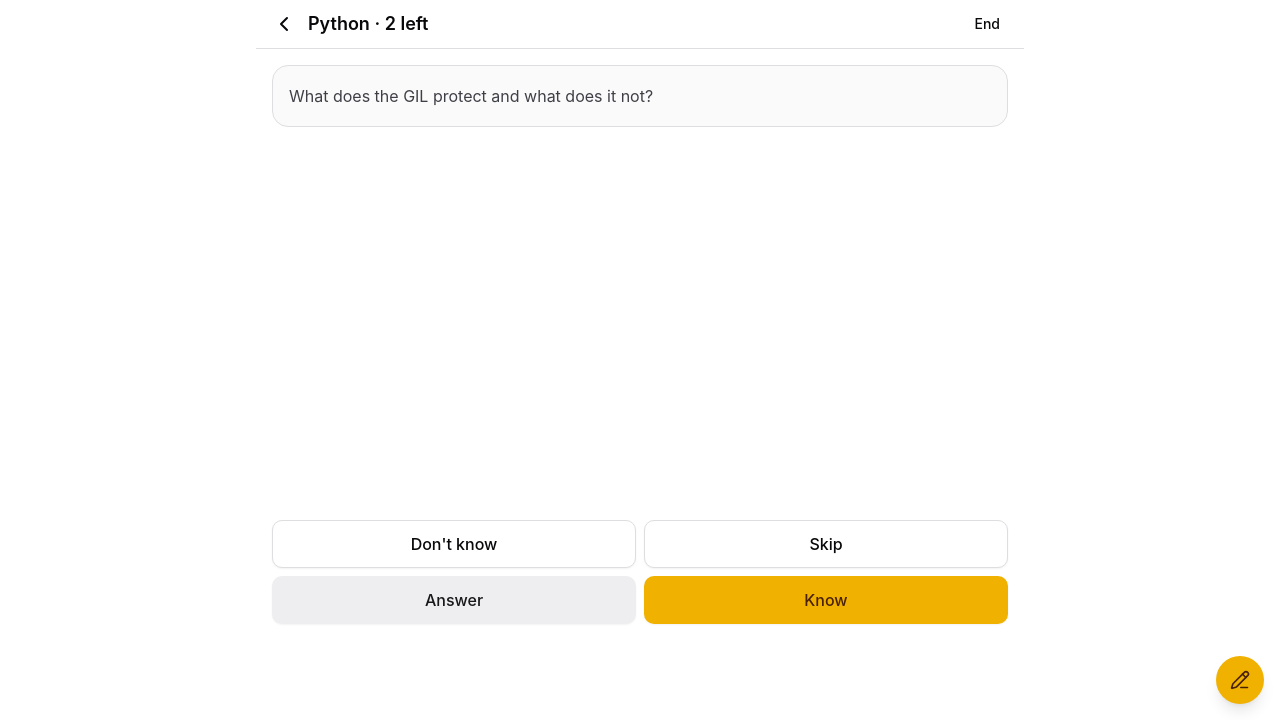
it: Training › skips once to the end and drops on the second skip without a Rep
Expected: the heading "Python · 2 left" is shown, [308,13,428,34]
Click the button "Skip": coordinates (826, 544) [644,520,1008,568]
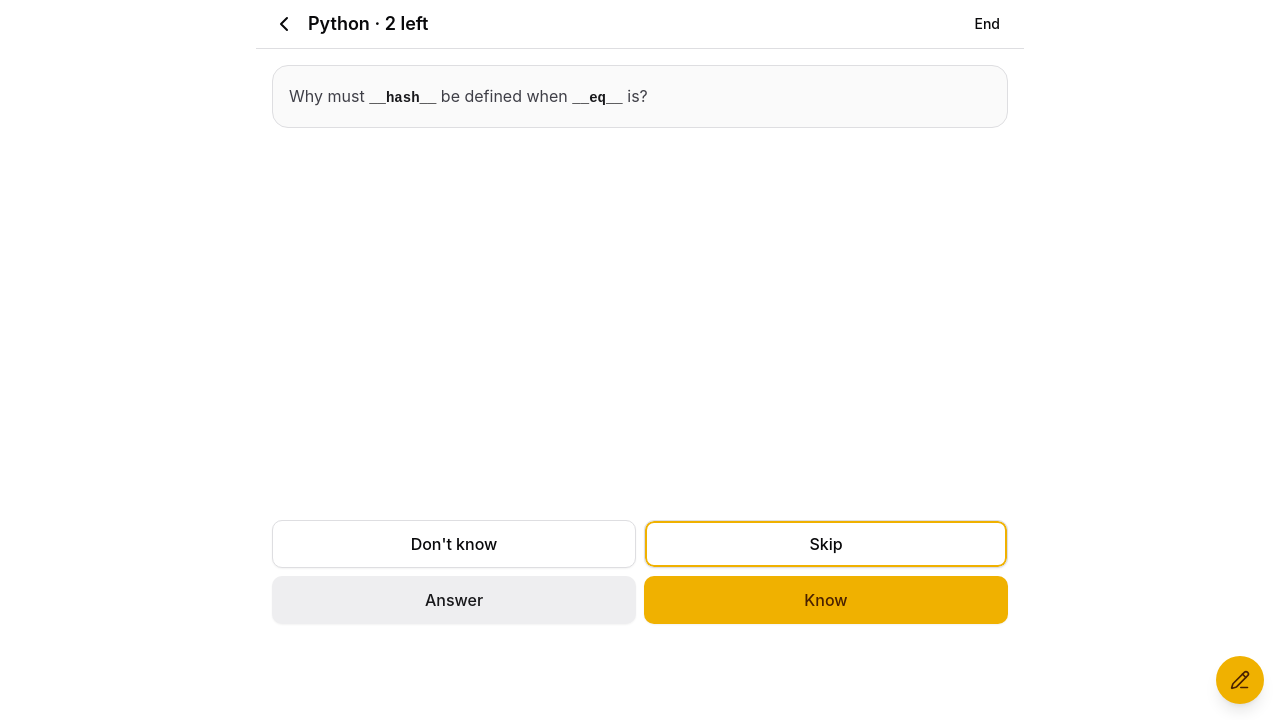
Result: the element named "Question" shows "__hash__" at [369,90,436,106]
Click the button "Skip": coordinates (826, 544) [644,520,1008,568]
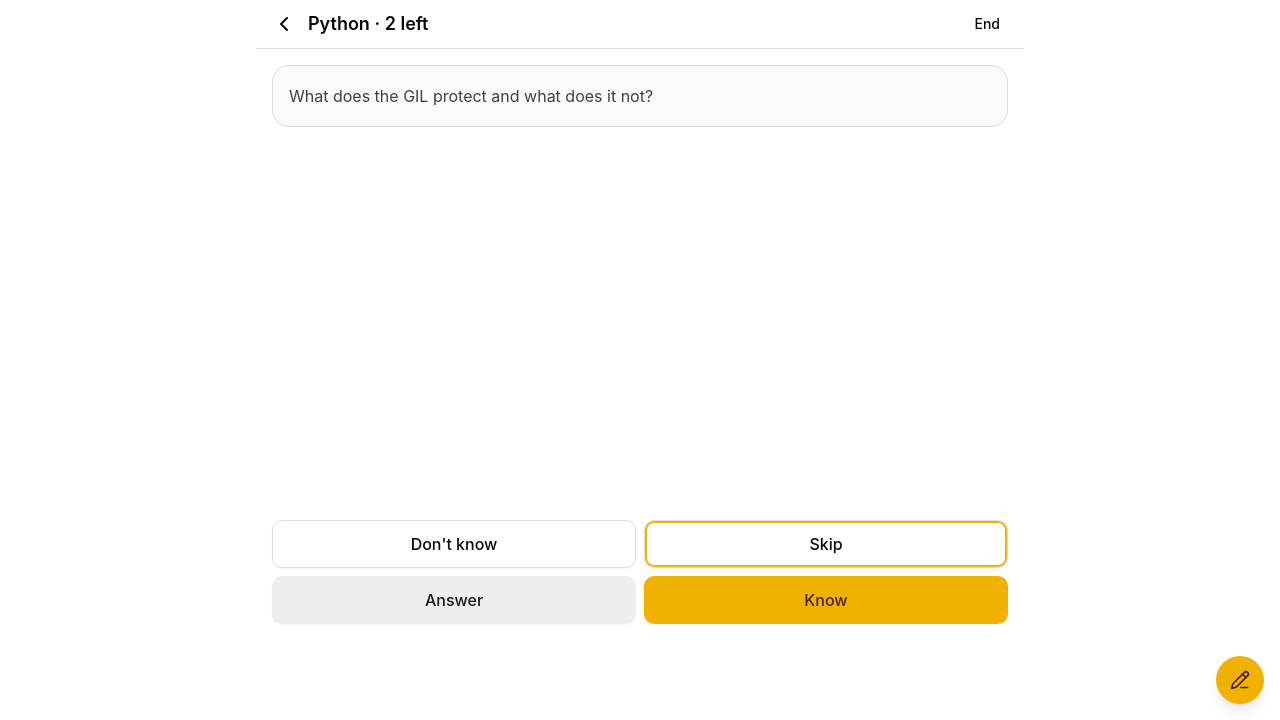
Result: the element named "Question" shows "GIL" at [289,86,653,106]
Click the button "Skip": coordinates (826, 544) [644,520,1008,568]
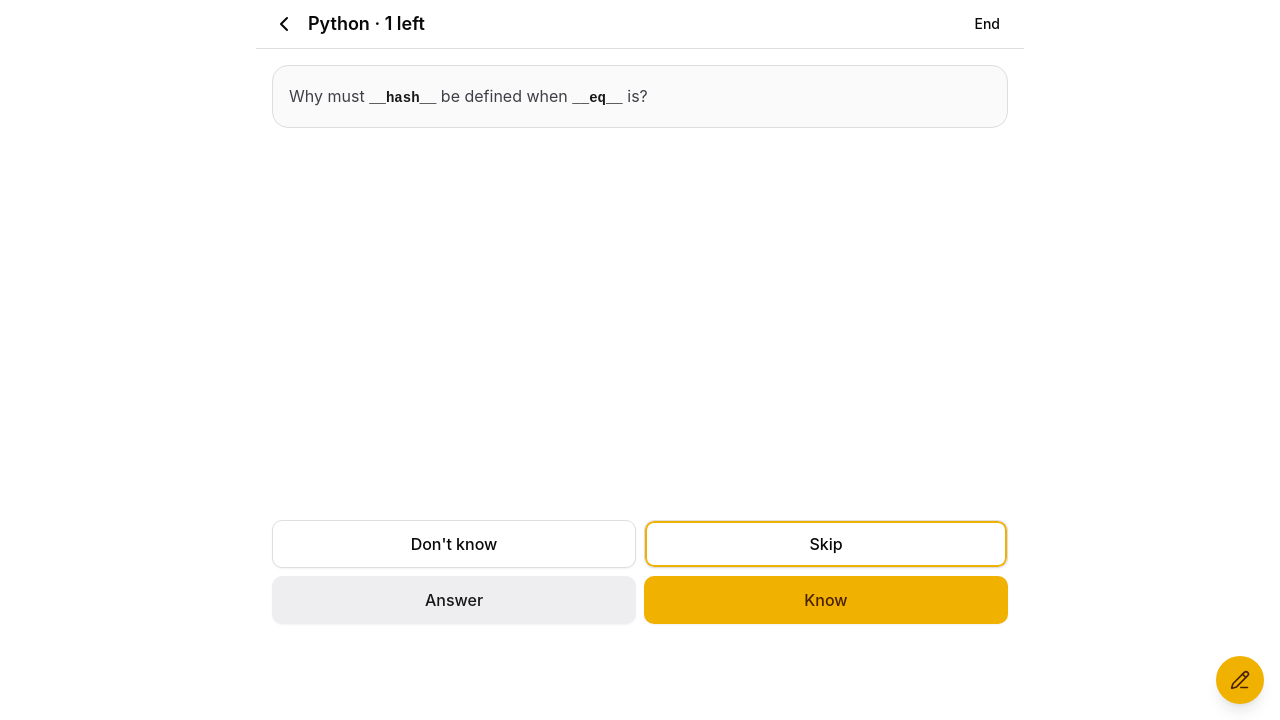
Click the button "Skip": coordinates (826, 544) [644,520,1008,568]
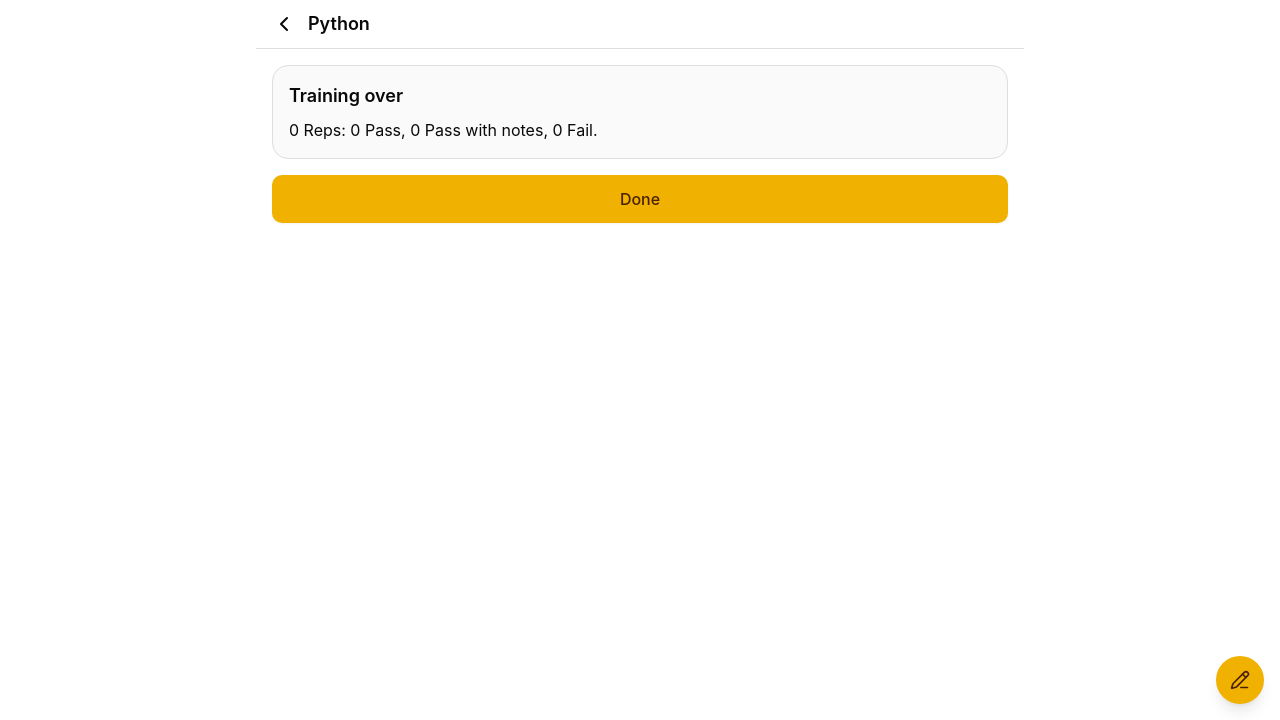
Result: the element named "Training summary" shows "0 Reps" at [272,65,1008,159]
